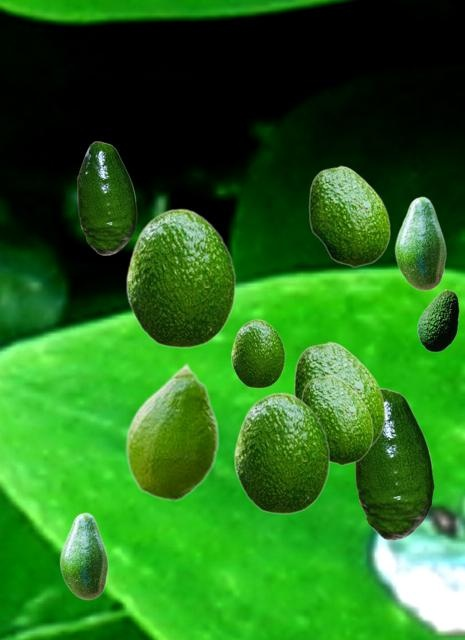avocado: (126, 208, 235, 347), (125, 362, 218, 500), (354, 388, 433, 539), (234, 392, 329, 513), (293, 341, 384, 447), (308, 165, 389, 266), (77, 141, 136, 254), (301, 374, 372, 464), (394, 196, 445, 290), (59, 512, 107, 599), (231, 319, 284, 387), (417, 289, 458, 351)
